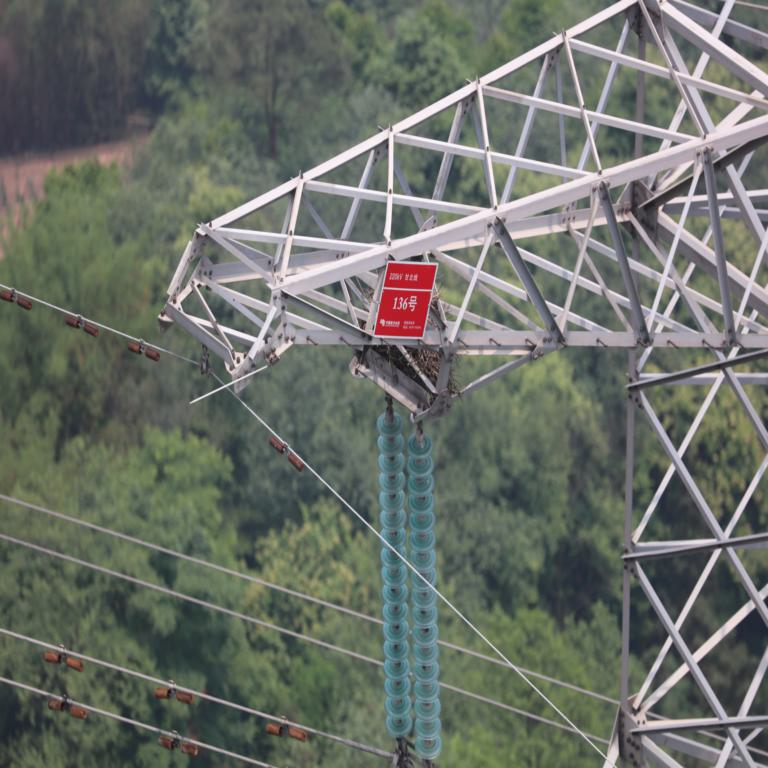nest: (375, 339, 442, 398)
